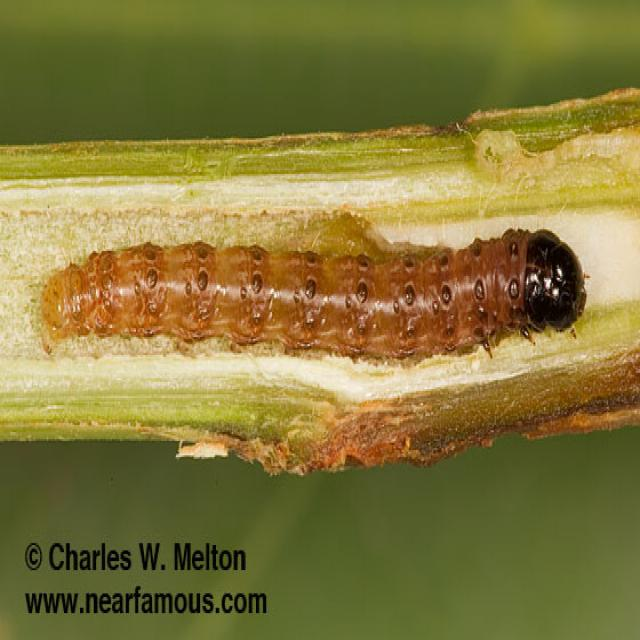cornborer-Larva-: (15, 191, 587, 392)
